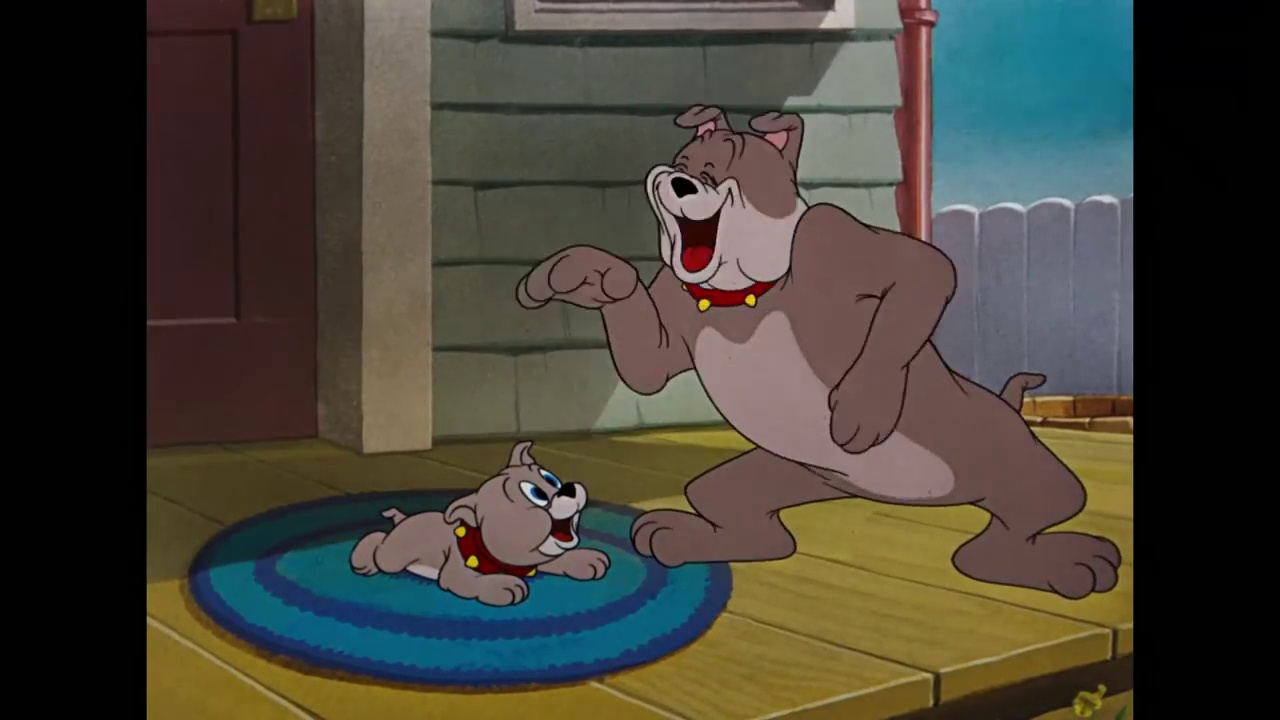spike: (632, 102, 812, 311)
